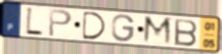B: (173, 17, 199, 48)
D: (82, 10, 108, 41)
G: (111, 13, 137, 43)
L: (24, 6, 45, 38)
M: (141, 15, 173, 47)
P: (47, 8, 74, 38)
